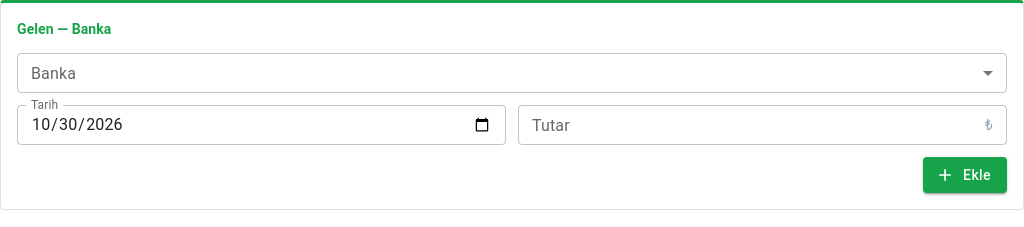
CariHareketFormu › tutar alandan çıkınca Türkçe biçimlenir
Type "24000,5" into the field labelled "Tutar".
click(750, 125); type("24000,5")  # box top-left (518, 105), bottom-right (981, 145)
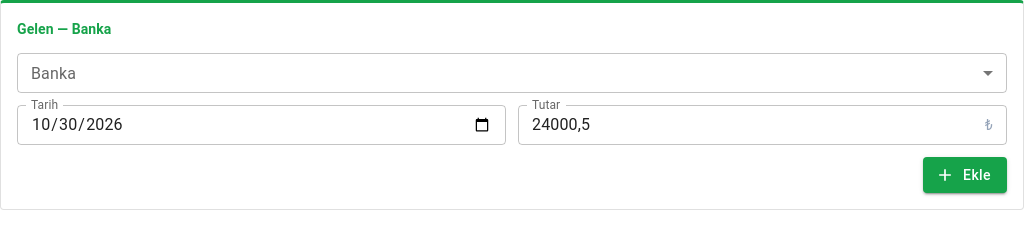
Leave the field labelled "Tutar", box top-left (518, 105), bottom-right (981, 145)
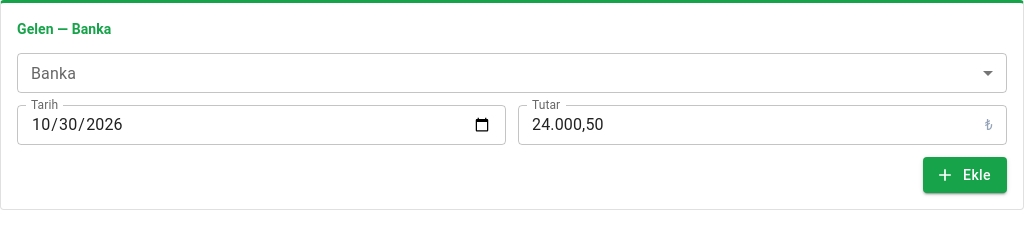
Check: the field labelled "Tutar" holds "24.000,50", box top-left (518, 105), bottom-right (981, 145)
